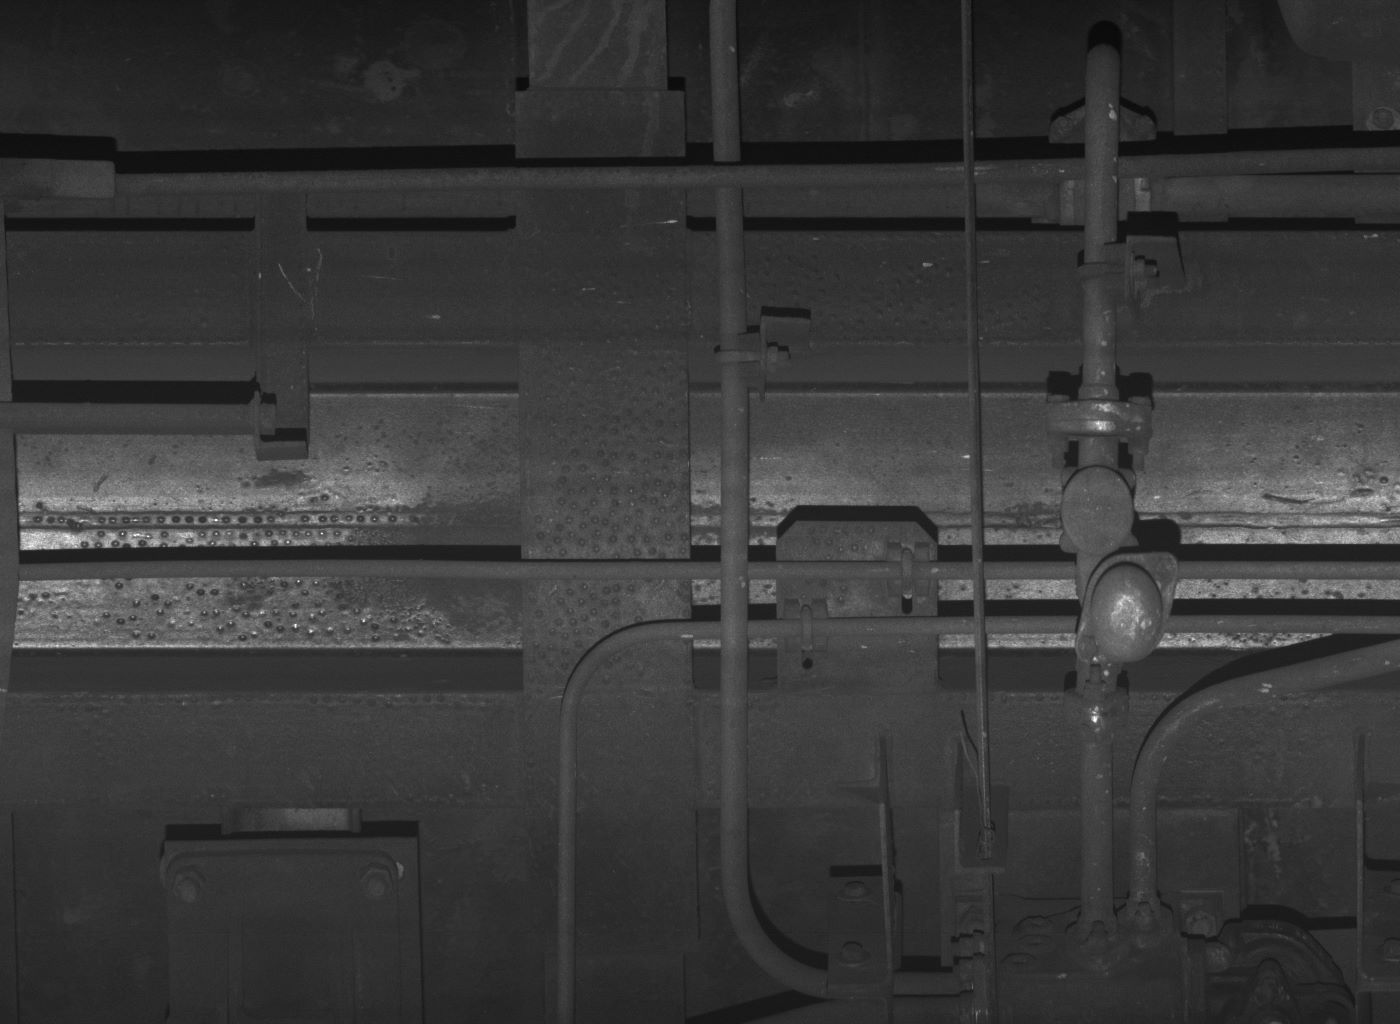normal: (1060, 463, 1139, 554)
